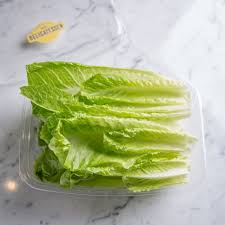Lettuce: (18, 54, 194, 196)
